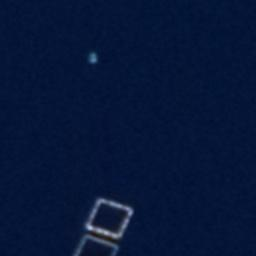square_solid: (82, 193, 134, 240), (67, 229, 130, 256)
